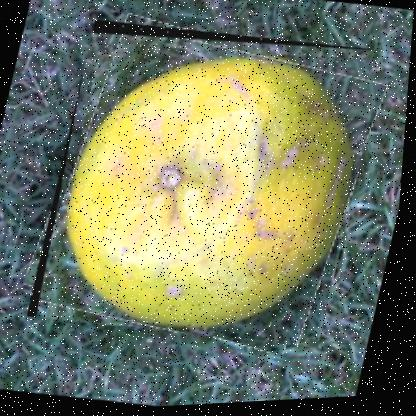orange_rotten: (28, 7, 390, 363)
